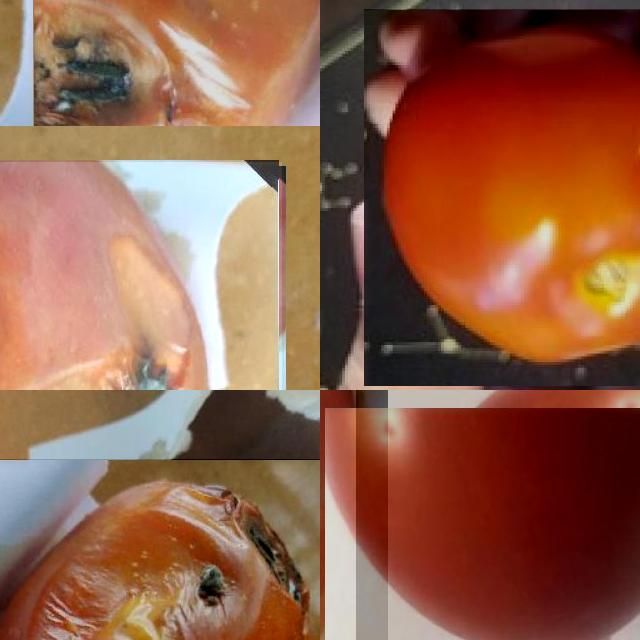0: (364, 9, 640, 386)
Fresh Tomato: (356, 390, 640, 640)
Rotten Tomato: (0, 162, 282, 390), (0, 459, 320, 640), (33, 0, 320, 126), (320, 390, 388, 640)
